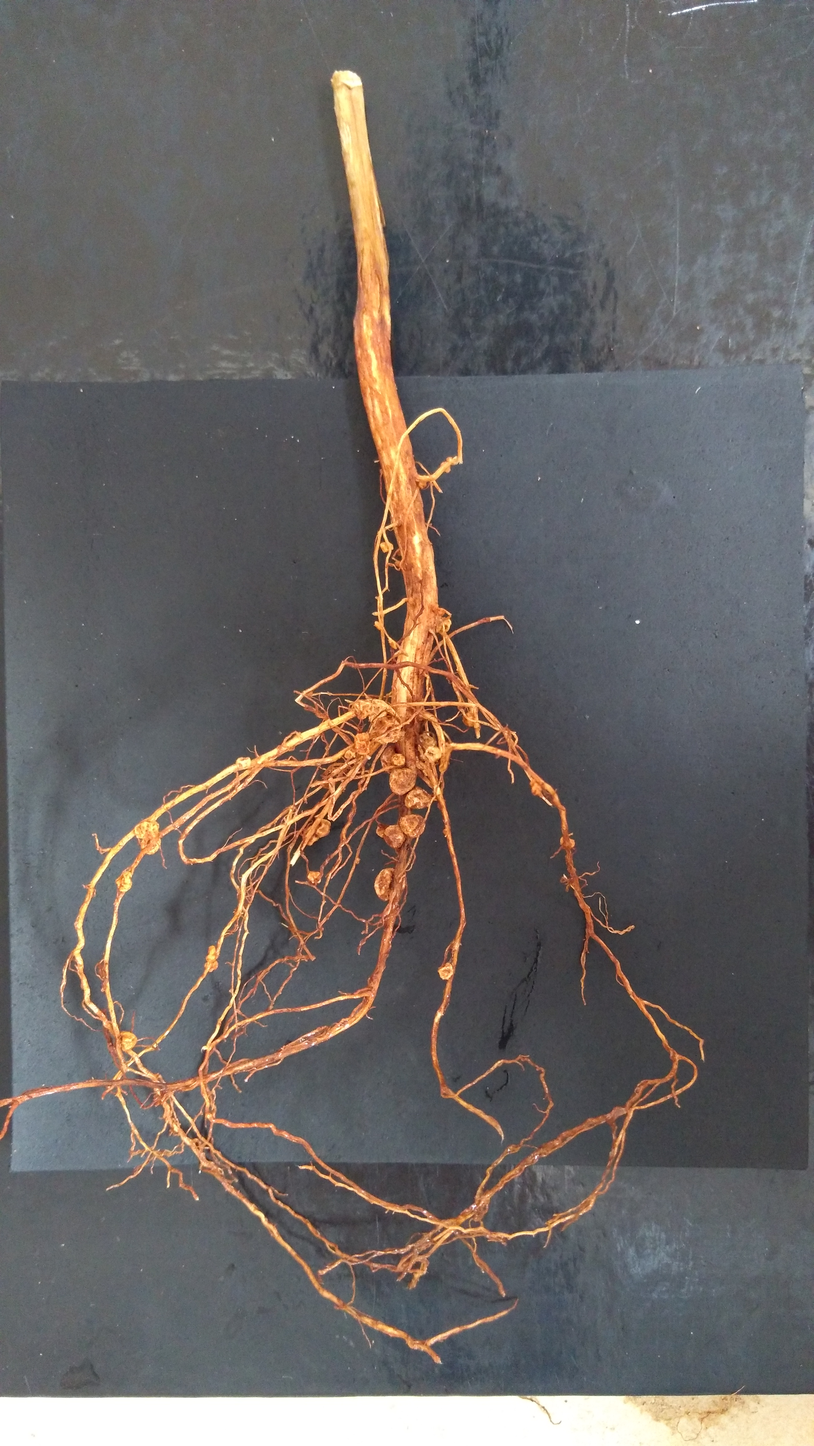nodule: (374, 867, 406, 902), (368, 698, 402, 728), (369, 714, 402, 744), (389, 767, 416, 796), (380, 743, 402, 774), (404, 786, 433, 809), (399, 814, 426, 838), (383, 824, 406, 849), (416, 732, 435, 762), (133, 821, 160, 839), (415, 756, 438, 777), (141, 833, 162, 856), (353, 732, 371, 756), (115, 871, 134, 893), (353, 699, 372, 720), (119, 1031, 137, 1052), (314, 817, 331, 839), (302, 824, 319, 846), (424, 745, 442, 763), (437, 961, 453, 980), (434, 616, 451, 633), (235, 756, 252, 770), (530, 778, 543, 796), (204, 959, 219, 973), (462, 711, 475, 727), (307, 870, 321, 884), (391, 753, 406, 766), (205, 945, 216, 962), (379, 541, 394, 553), (560, 836, 575, 848), (375, 822, 385, 838), (417, 705, 425, 722), (440, 461, 451, 473), (344, 749, 356, 760), (388, 637, 397, 650), (418, 480, 428, 490), (436, 607, 446, 617), (373, 621, 382, 630), (442, 827, 449, 835), (354, 856, 361, 864), (407, 596, 414, 604), (396, 550, 403, 557), (394, 560, 401, 567), (446, 457, 454, 463), (306, 691, 313, 696)
